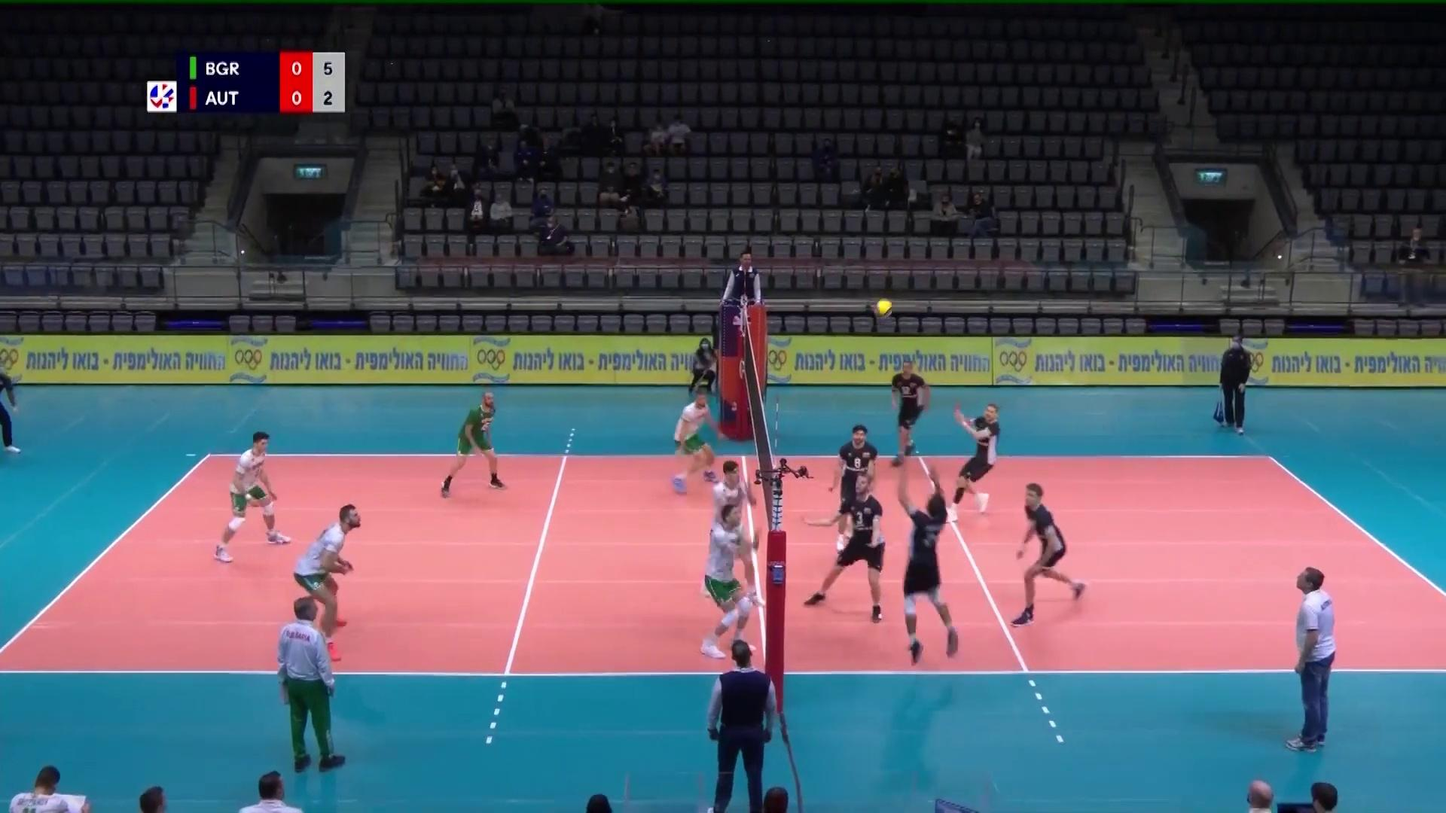ball: (874, 298, 893, 319)
